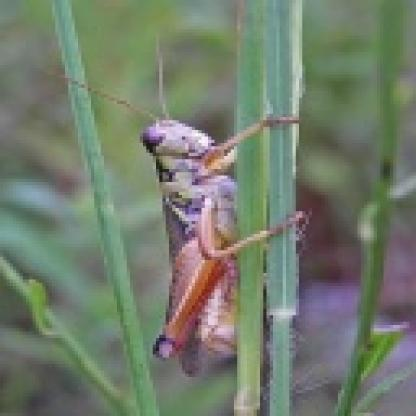grasshopper: (136, 78, 276, 367)
